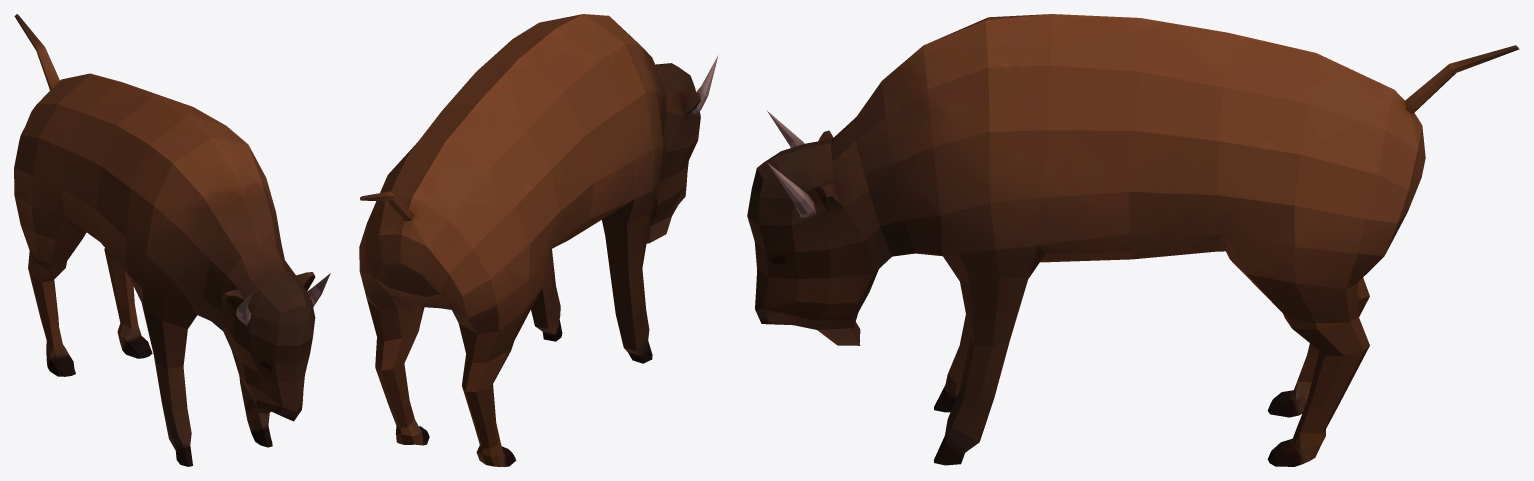
The model's file is animals-bison-018.glb.
3 renders of one model, left to right at view 1: azimuth 30°, elevation 25°; view 2: azimuth 150°, elevation 25°; view 3: azimuth 270°, elevation 25°, orthographic. The views are drawn at different scales.
Parts seen in each view (by area): view 1: BisonBeefalo_mesh; view 2: BisonBeefalo_mesh; view 3: BisonBeefalo_mesh.
Part boxes in pixels (x1,y1,x2,y2): BisonBeefalo_mesh: (14, 14, 330, 466); BisonBeefalo_mesh: (359, 14, 718, 466); BisonBeefalo_mesh: (747, 14, 1519, 466).
Size of the model in its own units: 5.02 by 11.17 by 18.57.
1 material, 1 textured.
